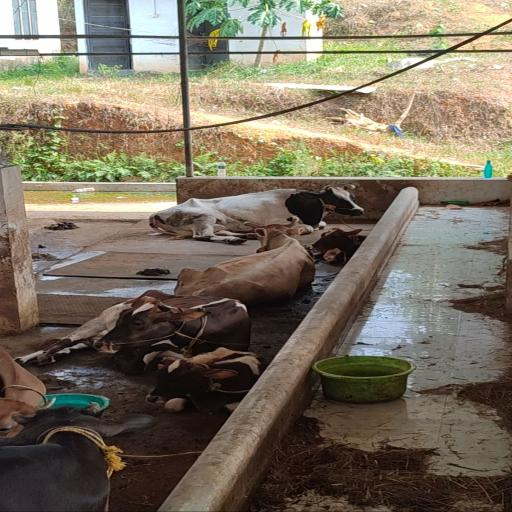cow-resting: (20, 290, 251, 374), (149, 185, 364, 244), (175, 217, 315, 305), (147, 348, 262, 413)
